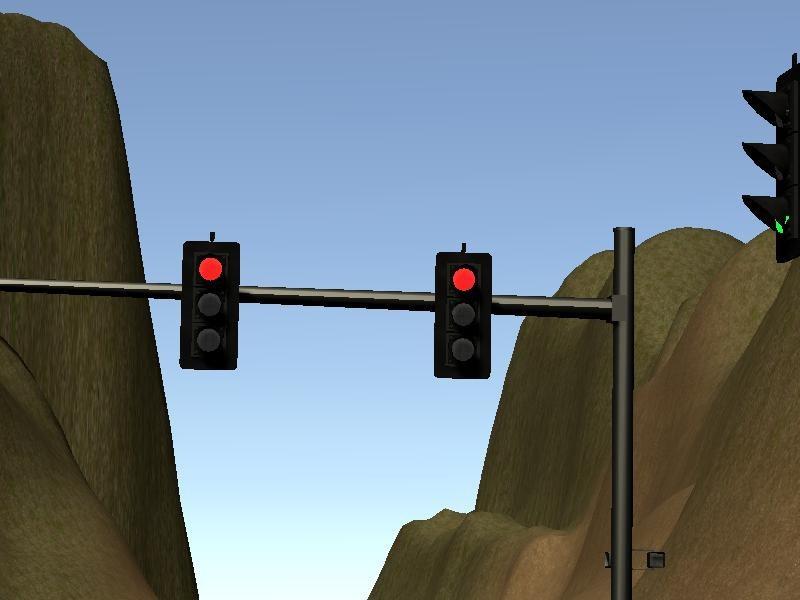red: (177, 238, 242, 371), (431, 249, 495, 380)
